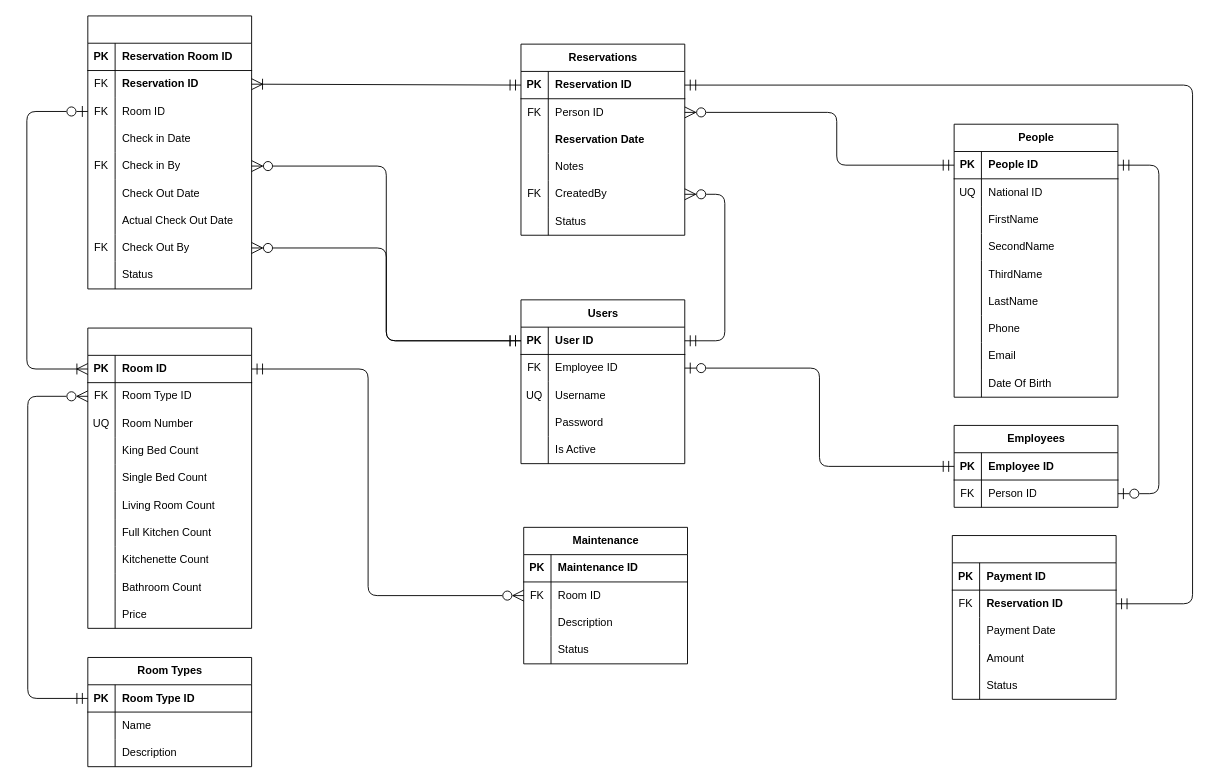
Image size: 1220x783. Some labels were removed from this diagram. Each missing label, with the box of its shape:
Payments: (951, 535, 1116, 699)
ReservationRooms: (87, 15, 252, 289)
Rooms: (87, 327, 252, 628)
